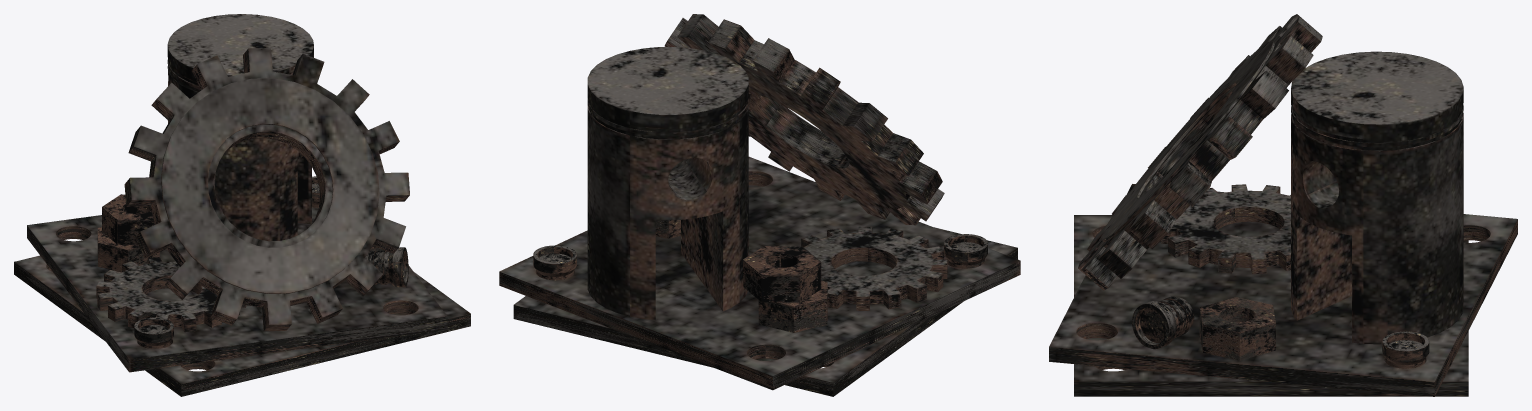
Rendered from scrap_metal (1).glb.
The picture shows the model from 3 angles, left to right: view 1: azimuth 30°, elevation 25°; view 2: azimuth 150°, elevation 25°; view 3: azimuth 270°, elevation 25°; orthographic projection. The views are drawn at different scales.
Visible parts, largest first — view 1: Cylinder, Cube.001, Cylinder.004, Cube, Cylinder.005, Cube.003, Cube.002, Cylinder.003, Cylinder.002; view 2: Cylinder.004, Cube.001, Cylinder, Cylinder.005, Cube, Cube.003, Cube.002, Cylinder.001, Cylinder.002, Cube.004; view 3: Cylinder.004, Cube.001, Cylinder, Cube, Cylinder.005, Cube.004, Cylinder.003, Cylinder.001.
Boxes of the visible parts, x1,y1,x2,y2 form: Cylinder: (124,48,409,331); Cube.001: (27,207,447,372); Cylinder.004: (167,14,313,241); Cube: (14,255,470,396); Cylinder.005: (96,256,246,332); Cube.003: (102,194,154,245); Cube.002: (97,227,159,272); Cylinder.003: (365,247,408,287); Cylinder.002: (134,317,173,348); Cylinder.004: (587,47,748,319); Cube.001: (499,156,1020,390); Cylinder: (664,14,944,225); Cylinder.005: (790,226,947,310); Cube: (513,185,1017,396); Cube.003: (743,246,821,302); Cube.002: (758,280,827,332); Cylinder.001: (533,245,576,280); Cylinder.002: (944,234,987,268); Cube.004: (655,220,680,238); Cylinder.004: (1291,51,1463,344); Cube.001: (1049,184,1517,396); Cylinder: (1078,14,1322,290); Cube: (1074,215,1468,396); Cylinder.005: (1161,184,1290,274); Cube.004: (1199,297,1275,360); Cylinder.003: (1132,296,1194,349); Cylinder.001: (1382,331,1429,368).
Size of the model in its own units: 207 by 140 by 207.
1 material, 1 textured.
